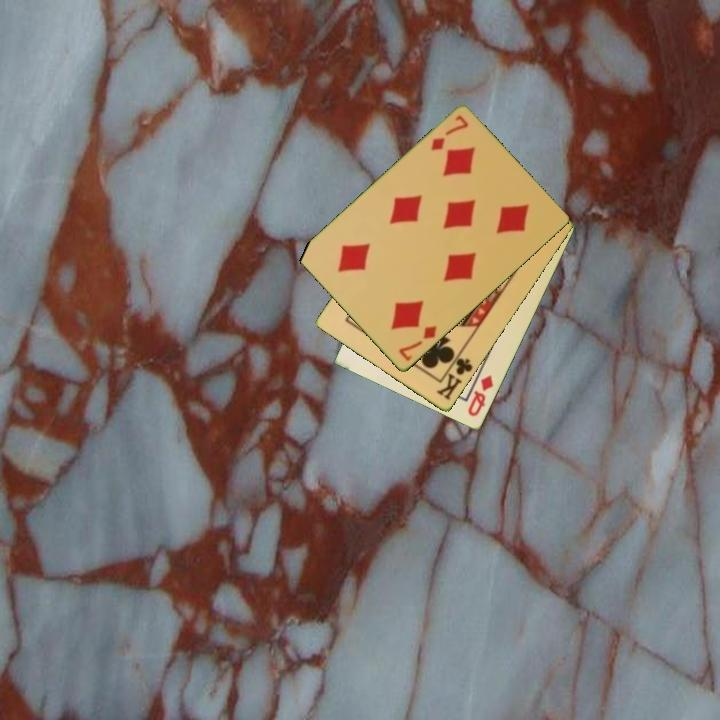7d: (427, 112, 472, 154), (395, 323, 439, 364)
Kc: (433, 349, 476, 404)
Qd: (464, 372, 497, 420)
